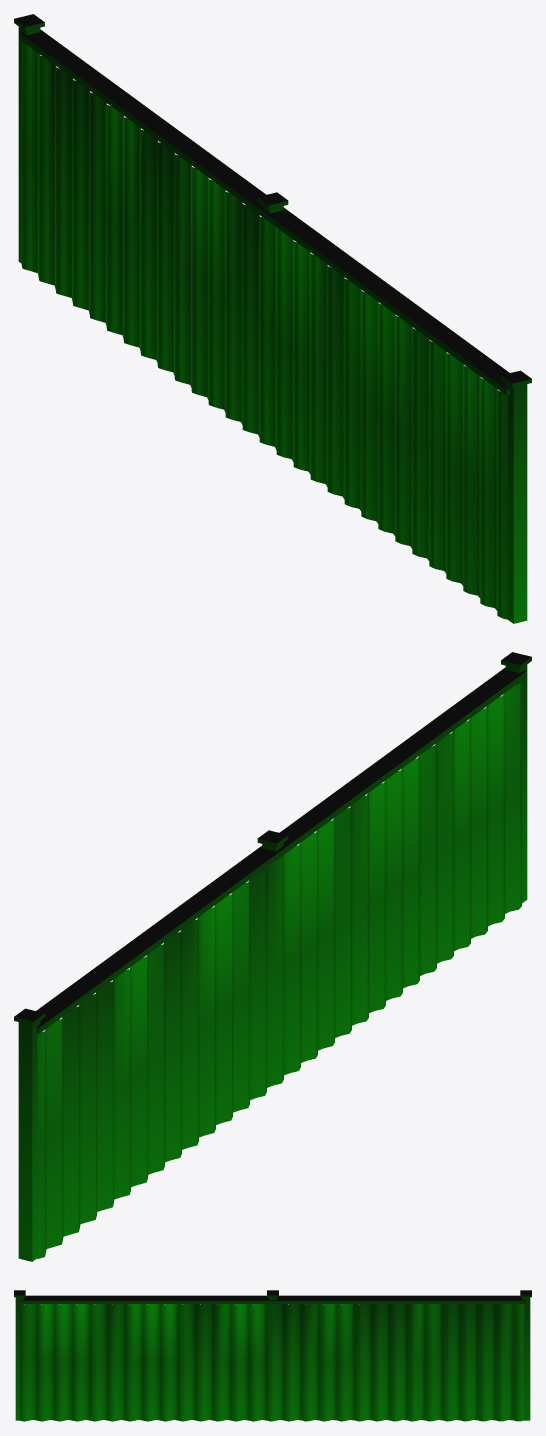
The model's file is woodenfence.glb.
3 views of the same model, one above another, from view 1: azimuth 30°, elevation 25°; view 2: azimuth 150°, elevation 25°; view 3: azimuth 270°, elevation 25° (orthographic). The views are drawn at different scales.
Parts seen in each view (by area): view 1: lod0; view 2: lod0; view 3: lod0.
Boxes of the visible parts, x1,y1,x2,y2 form: lod0: (14, 14, 531, 623); lod0: (14, 652, 531, 1261); lod0: (14, 1290, 531, 1421).
Size of what is drawn, in the model's own units: 0.23 by 2.36 by 8.8.
